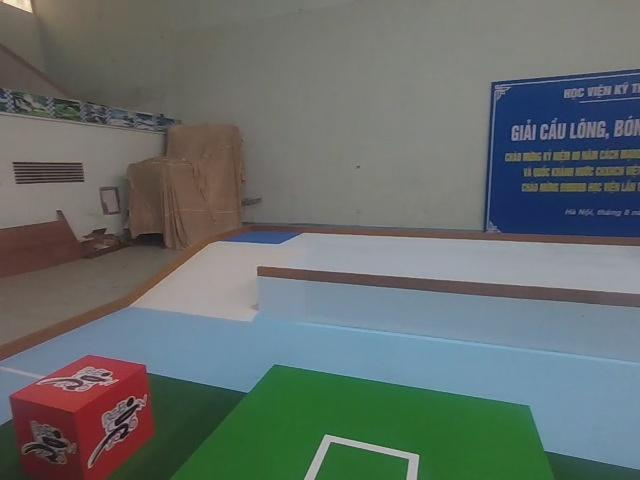R1: (11, 351, 159, 479)
